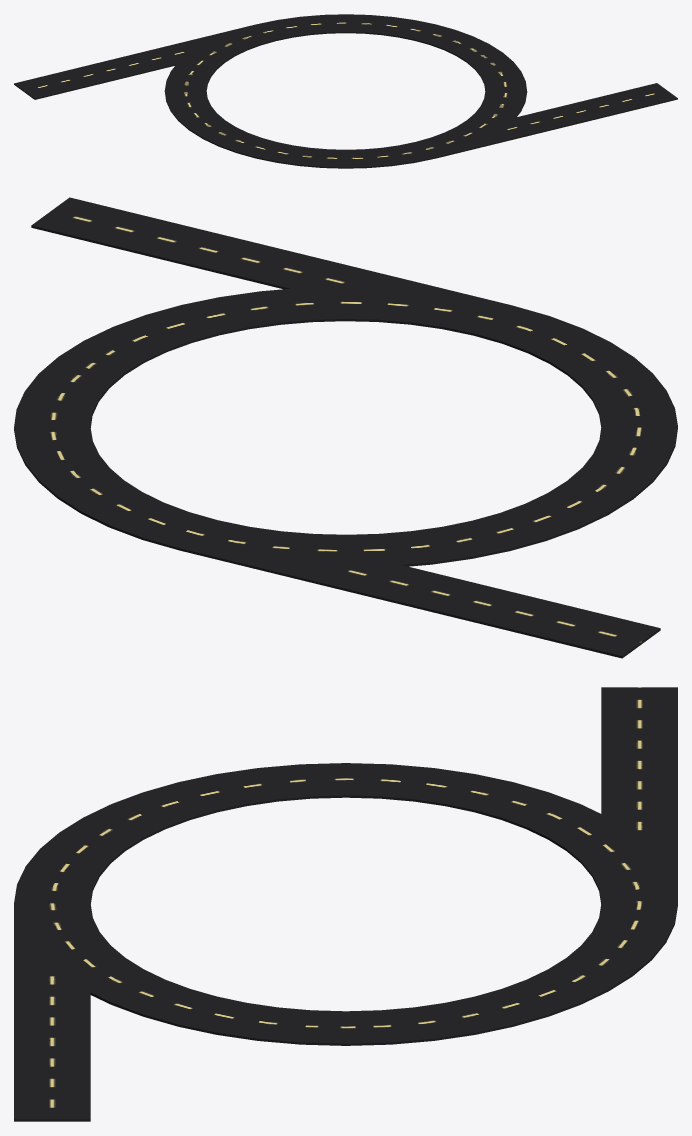
Rendered from Road V1.fbx.
The picture shows the model from 3 angles, top to bottom: view 1: azimuth 30°, elevation 25°; view 2: azimuth 150°, elevation 25°; view 3: azimuth 270°, elevation 25°; orthographic projection. The views are drawn at different scales.
Parts seen in each view (by area): view 1: Final Road V1; view 2: Final Road V1; view 3: Final Road V1.
Part boxes in pixels (x1,y1,x2,y2): Final Road V1: [14, 14, 677, 168]; Final Road V1: [14, 197, 677, 658]; Final Road V1: [14, 687, 677, 1121].
Bounding box in the file's own units: 26000 × 100 × 40000.
1 material, 1 textured.
